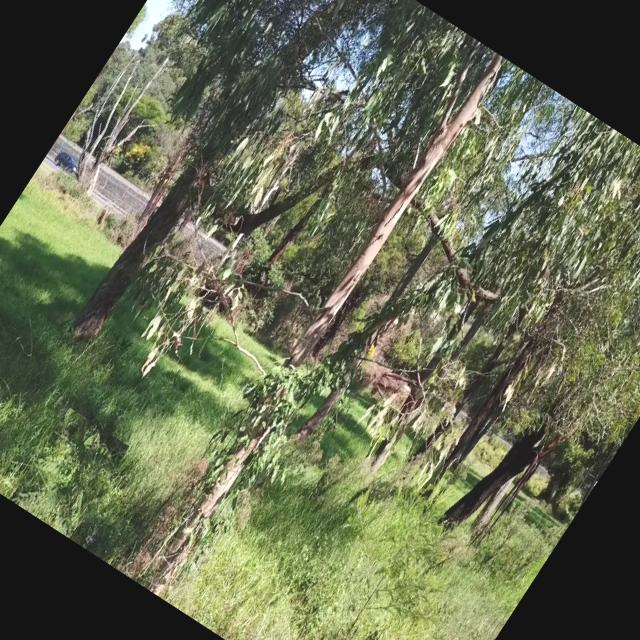Mysore-Thorn-Weed: (9, 408, 128, 538)
